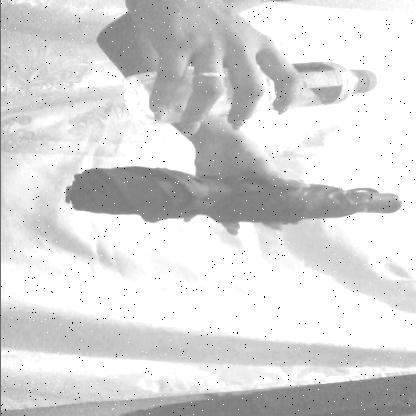Plastic Bottle: (89, 43, 393, 145)
